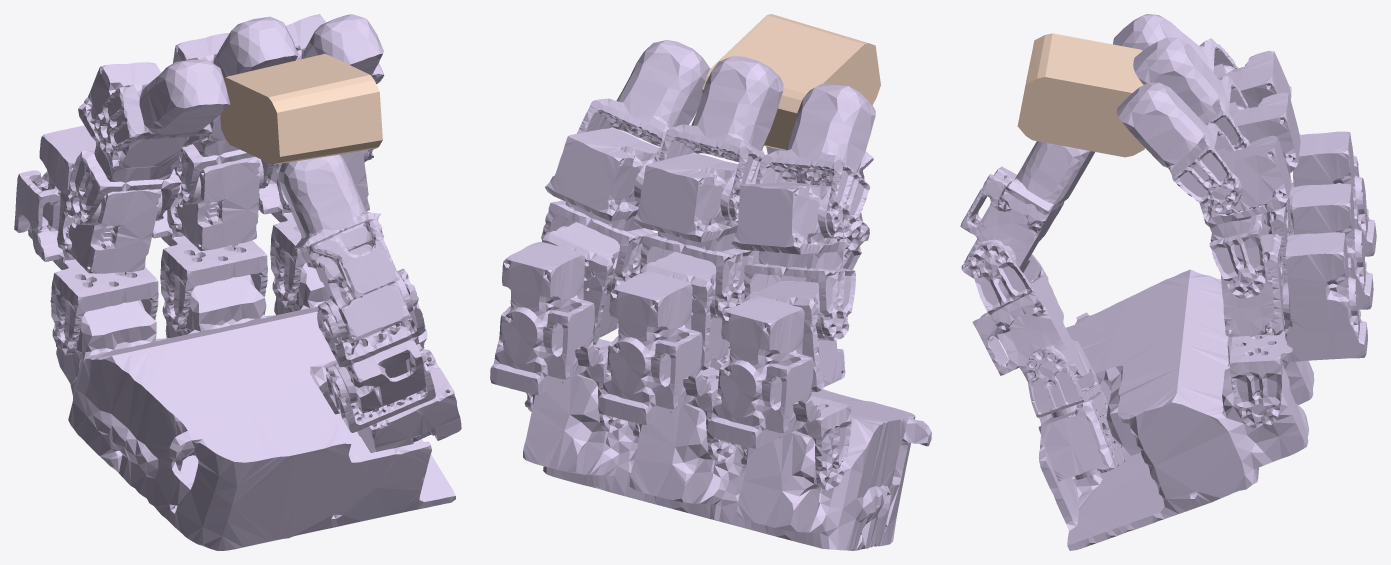
The picture shows the model from 3 angles, left to right: view 1: azimuth 30°, elevation 25°; view 2: azimuth 150°, elevation 25°; view 3: azimuth 270°, elevation 25°; orthographic projection. The views are drawn at different scales.
Visible parts, largest first — view 1: LEAP_hand, world; view 2: LEAP_hand, world; view 3: LEAP_hand, world.
Part boxes in pixels (box(x1,y1,x2,y2)): LEAP_hand: box(14, 14, 461, 550); world: box(220, 53, 382, 164); LEAP_hand: box(490, 40, 931, 550); world: box(702, 14, 880, 150); LEAP_hand: box(960, 14, 1376, 550); world: box(1017, 33, 1144, 157).
Bounding box in the file's own units: 0.1264 × 0.1924 × 0.1629.
